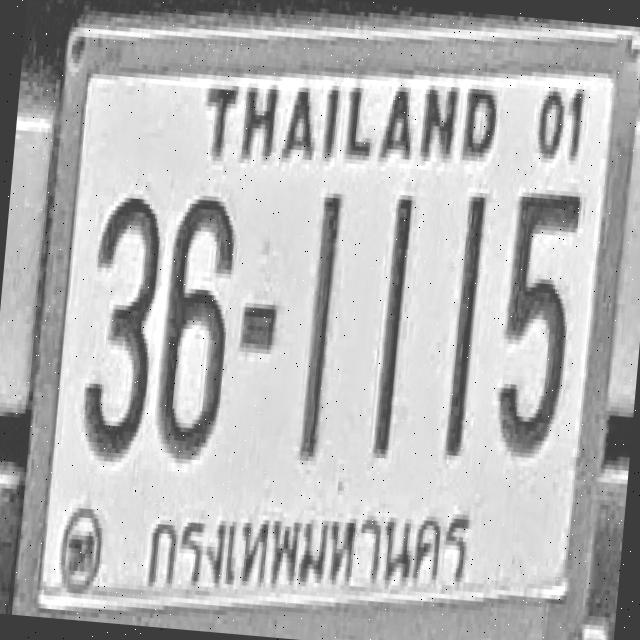1: (298, 190, 342, 459), (443, 194, 487, 458), (372, 196, 414, 456)
3: (79, 191, 163, 459)
5: (493, 185, 582, 458)
6: (154, 191, 238, 458)
Bangkok: (138, 478, 478, 622)
